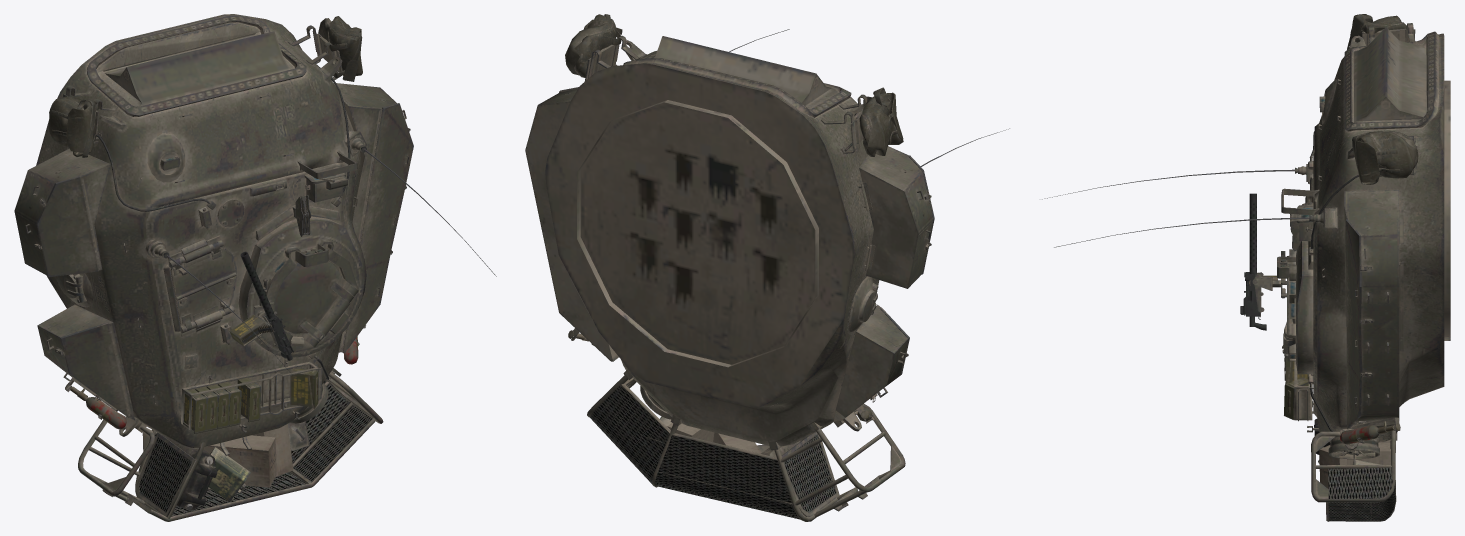
Rendered from Turret_01.glb.
3 renders of one model, left to right at view 1: azimuth 30°, elevation 25°; view 2: azimuth 150°, elevation 25°; view 3: azimuth 270°, elevation 25°, orthographic. The views are drawn at different scales.
Parts seen in each view (by area): view 1: set_0_group_0; view 2: set_0_group_0; view 3: set_0_group_0.
Part boxes in pixels (box(x1,y1,x2,y2)): set_0_group_0: box(14, 14, 496, 521); set_0_group_0: box(525, 14, 1009, 521); set_0_group_0: box(1042, 14, 1450, 521).
Bounding box in the file's own units: 3.23 × 3.55 × 3.12.
Materials: 1 (1 with a texture image).
